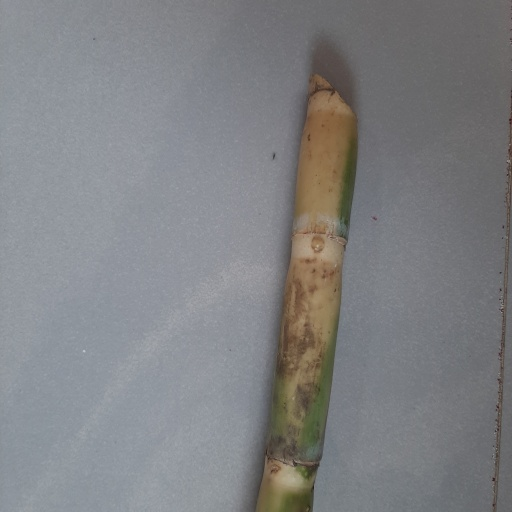Bud: (309, 234, 326, 256)
